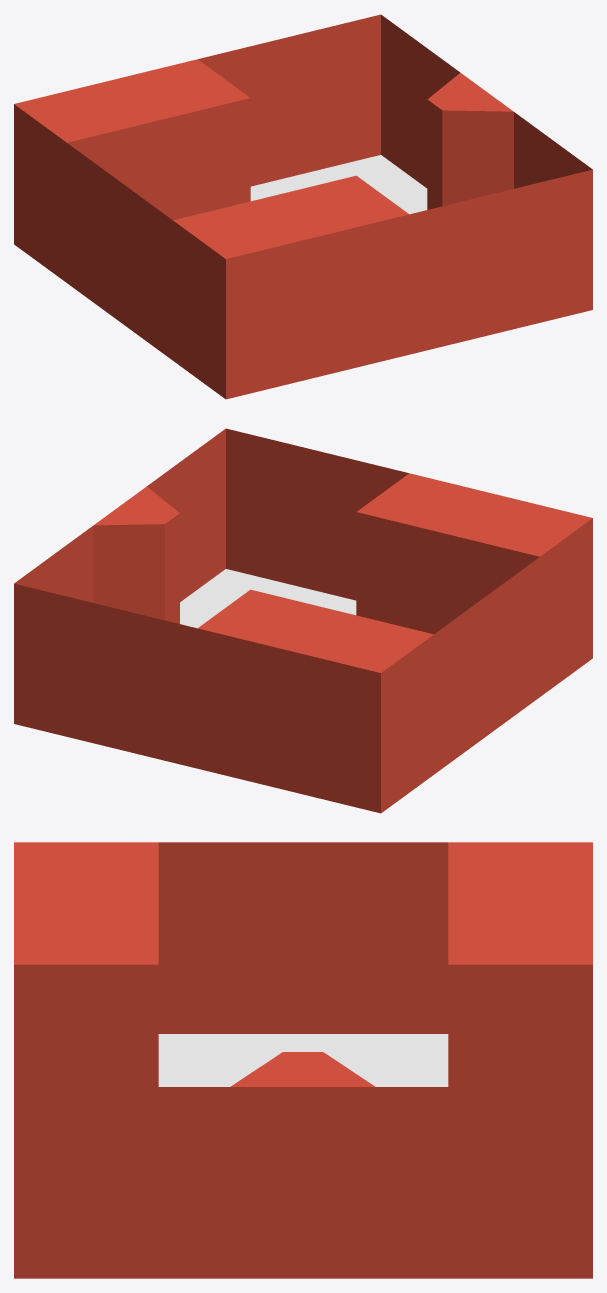
The model's file is room04.fbx.
3 renders of one model, top to bottom at view 1: azimuth 30°, elevation 25°; view 2: azimuth 150°, elevation 25°; view 3: azimuth 270°, elevation 25°, orthographic. The views are drawn at different scales.
Parts seen in each view (by area): view 1: 평면.003; view 2: 평면.003; view 3: 평면.003.
Boxes of the visible parts, bbox=[...] form: 평면.003: bbox=[14, 14, 592, 399]; 평면.003: bbox=[14, 428, 592, 813]; 평면.003: bbox=[14, 842, 592, 1278].
Size of the model in its own units: 40 by 14.61 by 40.
